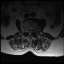CCS_normal: (29, 28, 30, 36)
LFS_severe_stenosis: (32, 29, 34, 33)
LLS_stenosis: (30, 28, 32, 34)
RFS_normal: (25, 28, 27, 33)
RLS_stenosis: (27, 28, 29, 34)
